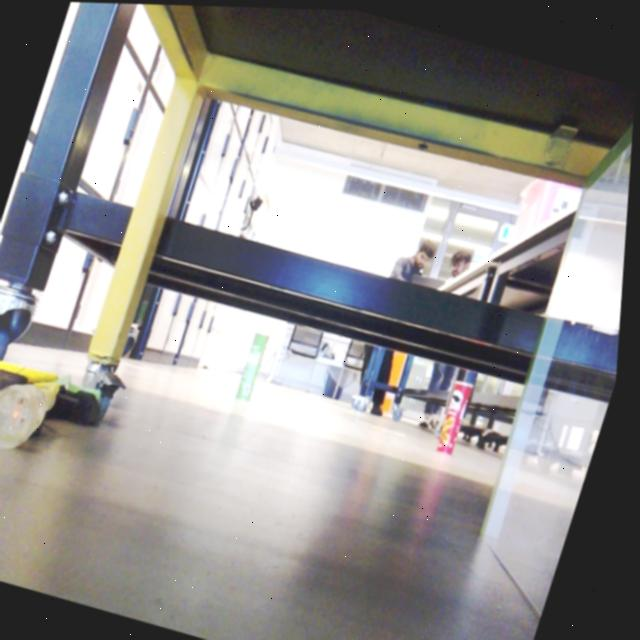greenpringles: (229, 305, 288, 416)
redpringles: (431, 361, 484, 468)
